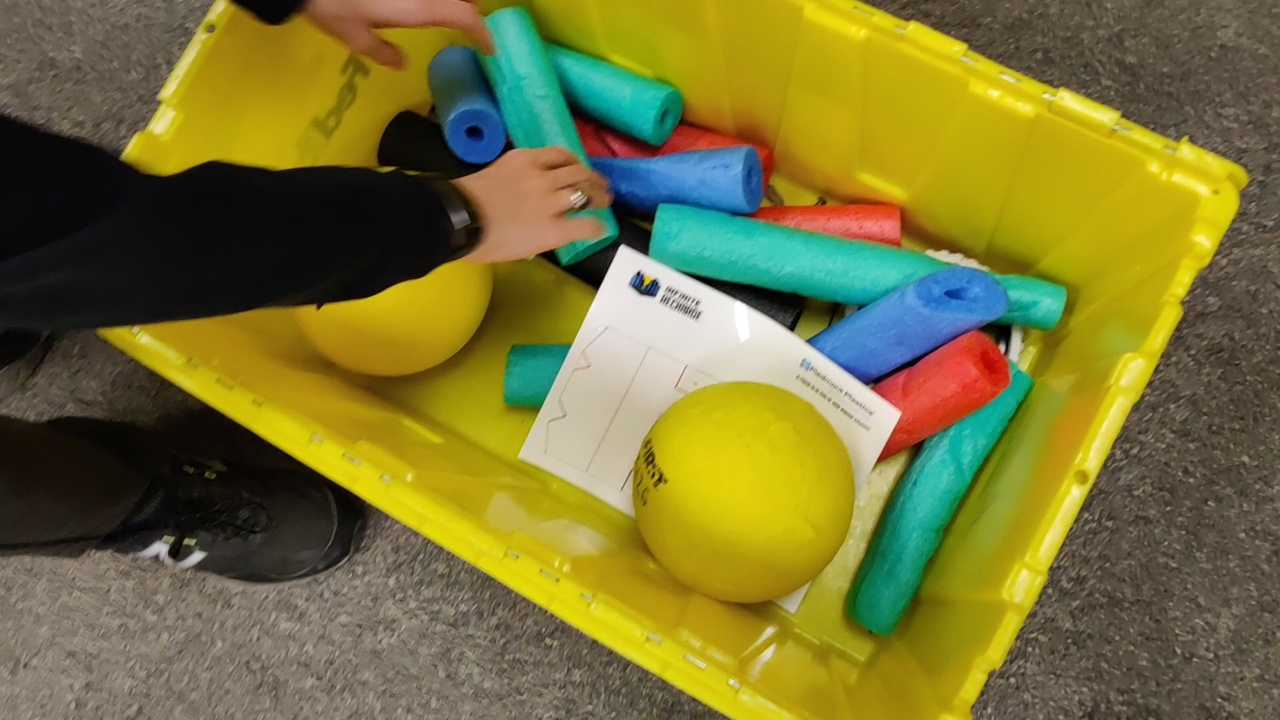Ball: (633, 382, 854, 607), (302, 265, 495, 374)
